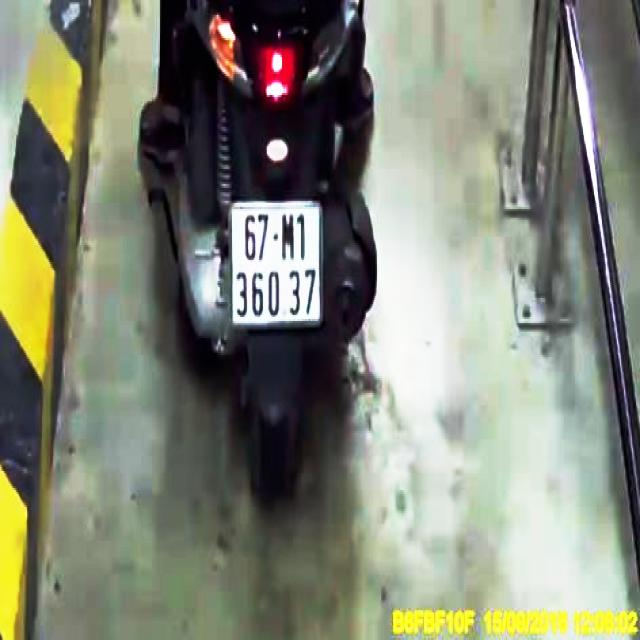license_plate: (233, 206, 321, 324)
